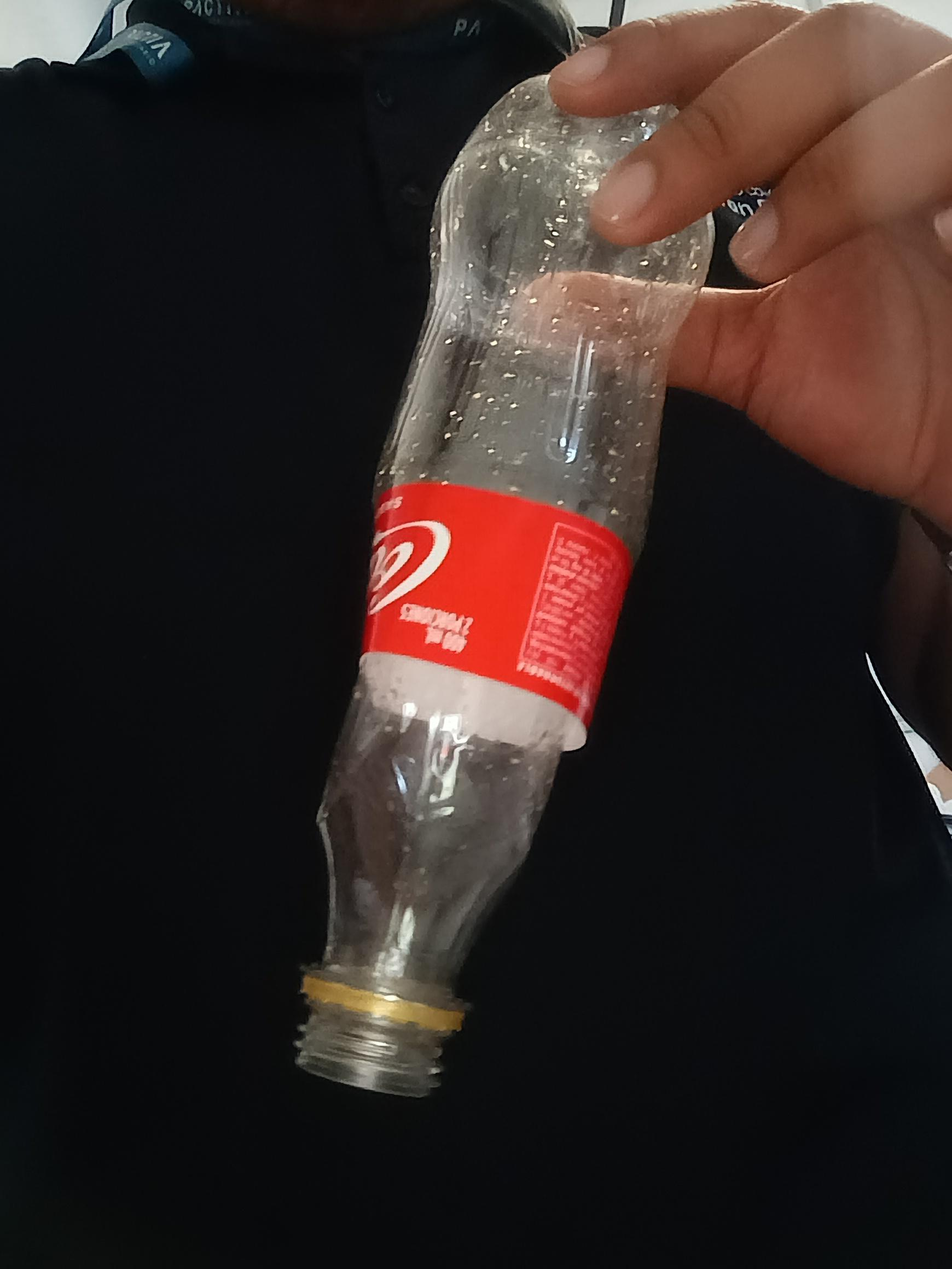Plastico: (290, 73, 710, 1097)
